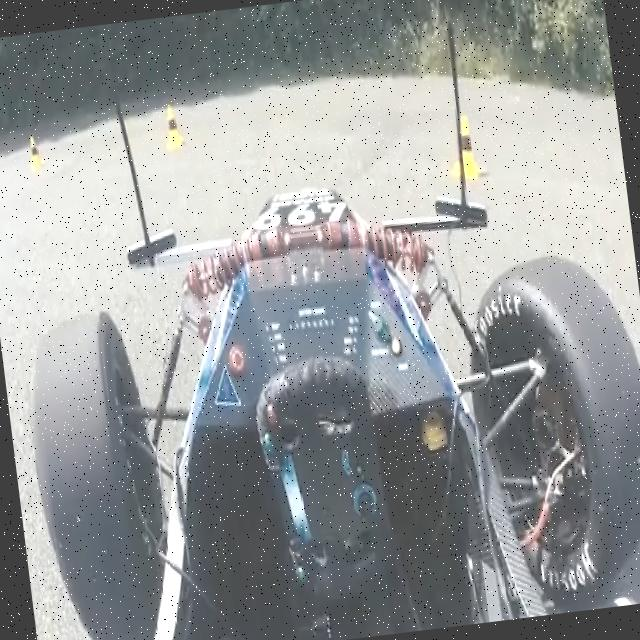yellow_cone: (444, 114, 482, 182), (160, 101, 187, 150), (27, 135, 46, 172)
